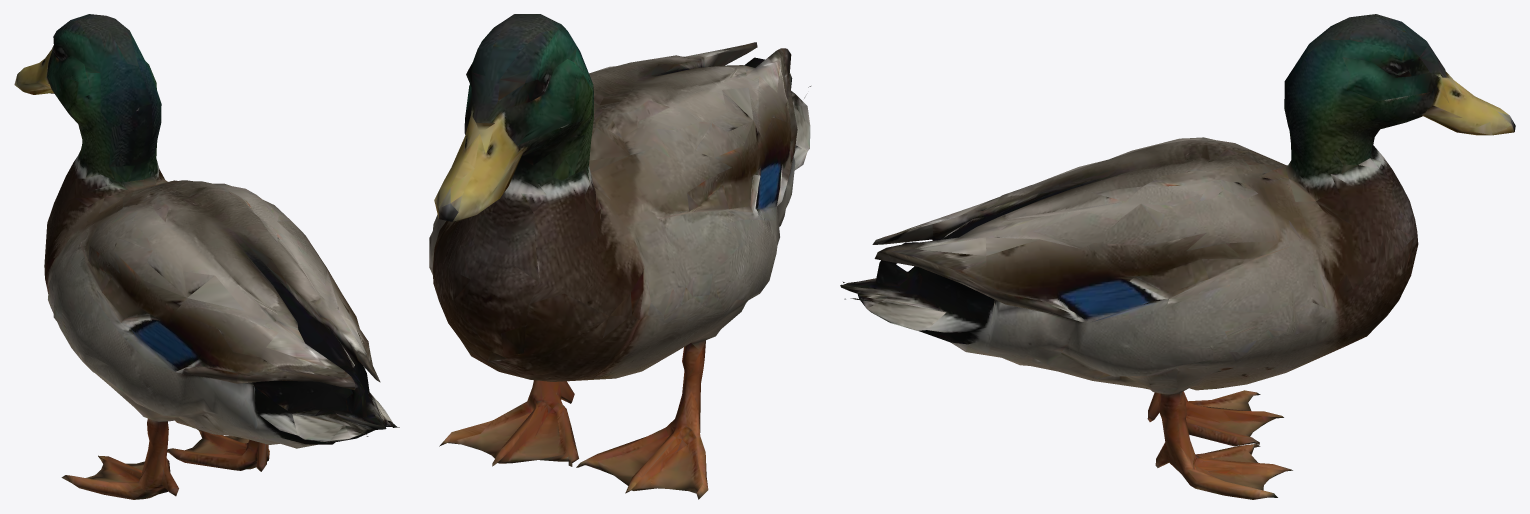
Rendered from mallard.glb.
3 views of the same model, side by side, from view 1: azimuth 30°, elevation 25°; view 2: azimuth 150°, elevation 25°; view 3: azimuth 270°, elevation 25° (orthographic). The views are drawn at different scales.
Parts seen in each view (by area): view 1: mallard; view 2: mallard; view 3: mallard.
Part boxes in pixels (x1,y1,x2,y2): mallard: (14, 14, 399, 499); mallard: (429, 14, 810, 499); mallard: (840, 14, 1515, 499).
Bounding box in the file's own units: 0.2364 × 0.4044 × 0.5802.
Materials: 1 (1 with a texture image).
